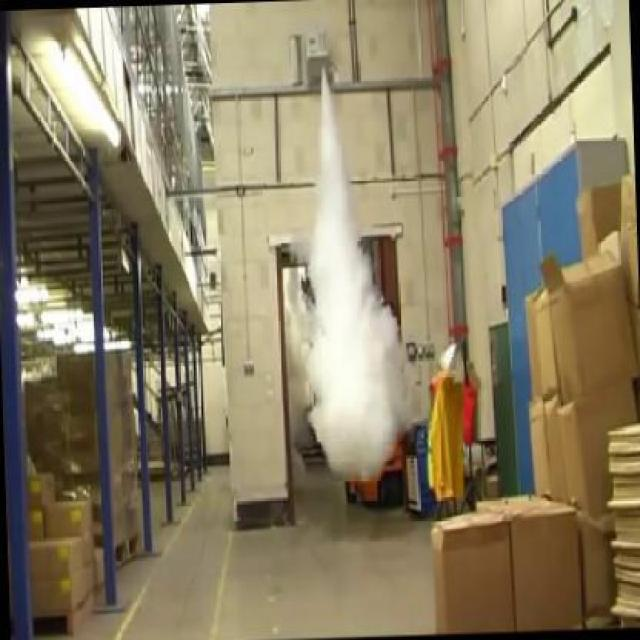fire: (299, 134, 416, 483)
